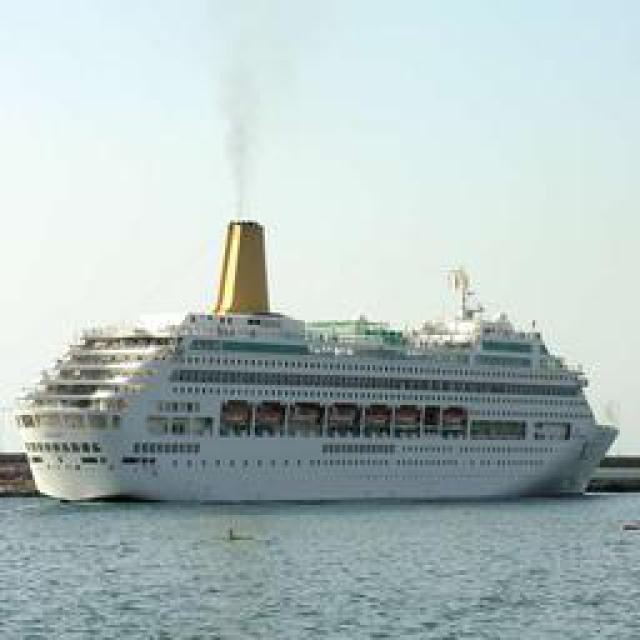Ship: (29, 224, 622, 504)
